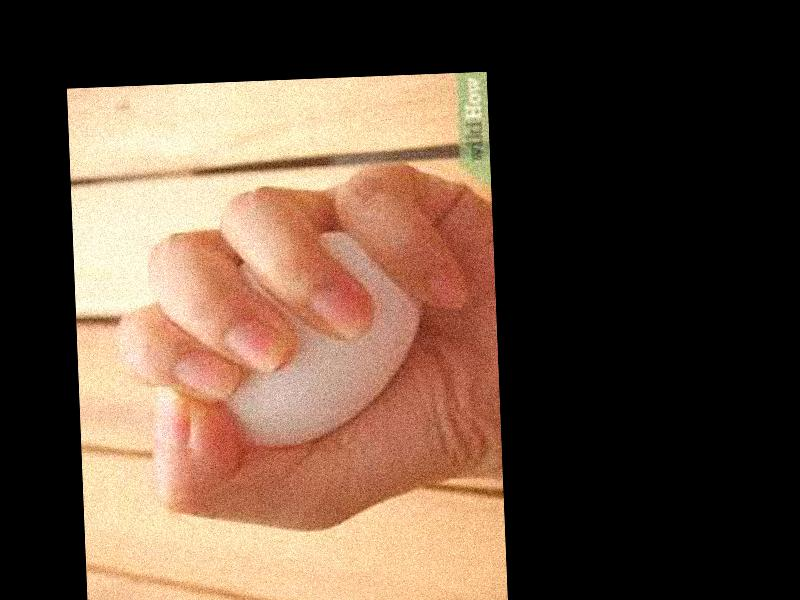Eggs: (197, 225, 425, 449)
